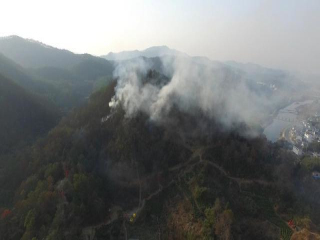smoke: (101, 39, 289, 135)
